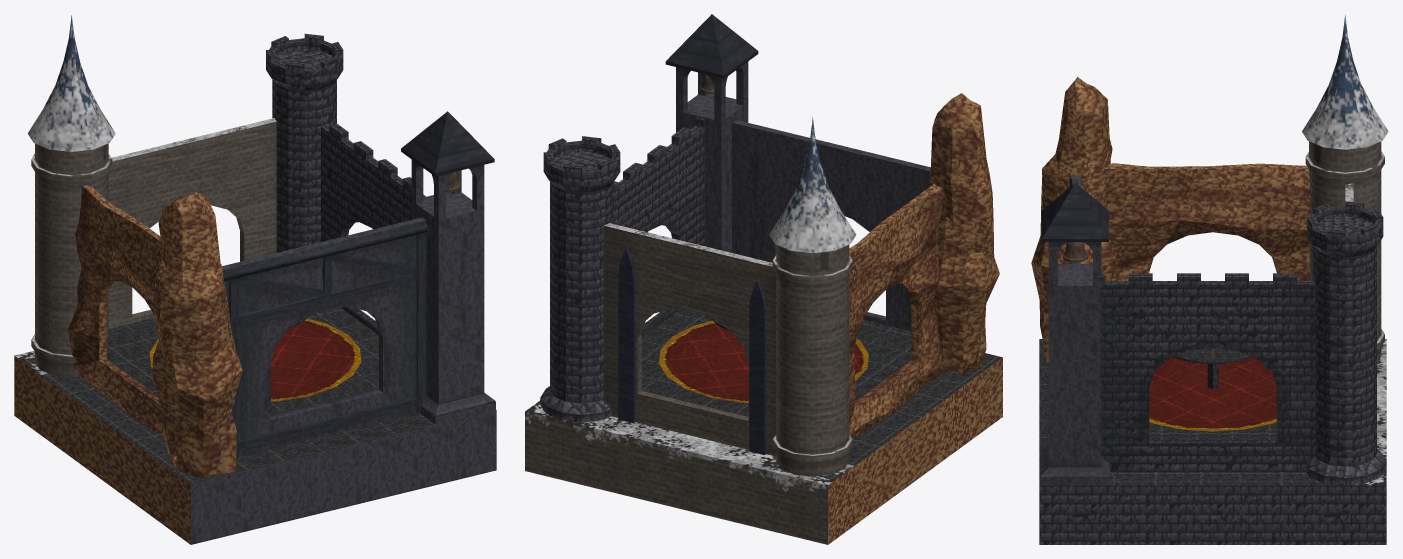
The model's file is conferenceroom.fbx.
The picture shows the model from 3 angles, left to right: view 1: azimuth 30°, elevation 25°; view 2: azimuth 150°, elevation 25°; view 3: azimuth 270°, elevation 25°; orthographic projection.
Visible parts, largest first — view 1: Walls, Bottom, Rock, BellTower, MagicPillar, CastlePillar, Truss, Ground, Carpet; view 2: Walls, Bottom, MagicPillar, CastlePillar, Rock, BellTower, Ground, MageDesign, Carpet; view 3: Walls, Bottom, CastlePillar, BellTower, MagicPillar, Rock, Carpet, Ground, Table.
Part boxes in pixels (bbox=[...]): Walls: bbox=[68, 118, 433, 456]; Bottom: bbox=[14, 351, 496, 544]; Rock: bbox=[152, 191, 242, 478]; BellTower: bbox=[401, 111, 495, 424]; MagicPillar: bbox=[27, 15, 115, 377]; CastlePillar: bbox=[266, 33, 343, 252]; Truss: bbox=[223, 224, 427, 458]; Ground: bbox=[106, 307, 378, 415]; Carpet: bbox=[149, 318, 361, 401]; Walls: bbox=[603, 117, 948, 456]; Bottom: bbox=[525, 353, 1002, 544]; MagicPillar: bbox=[769, 117, 856, 476]; CastlePillar: bbox=[540, 136, 620, 422]; Rock: bbox=[928, 93, 999, 374]; BellTower: bbox=[665, 14, 758, 252]; Ground: bbox=[642, 310, 911, 416]; MageDesign: bbox=[618, 247, 766, 454]; Carpet: bbox=[659, 320, 868, 402]; Walls: bbox=[1072, 163, 1353, 471]; Bottom: bbox=[1039, 339, 1386, 544]; CastlePillar: bbox=[1306, 201, 1386, 485]; BellTower: bbox=[1040, 183, 1109, 485]; MagicPillar: bbox=[1302, 15, 1388, 362]; Rock: bbox=[1031, 77, 1116, 362]; Carpet: bbox=[1149, 357, 1276, 431]; Ground: bbox=[1149, 422, 1276, 439]; Table: bbox=[1174, 347, 1252, 389].
Bounding box in the file's own units: 43.56 × 53.58 × 43.2.
